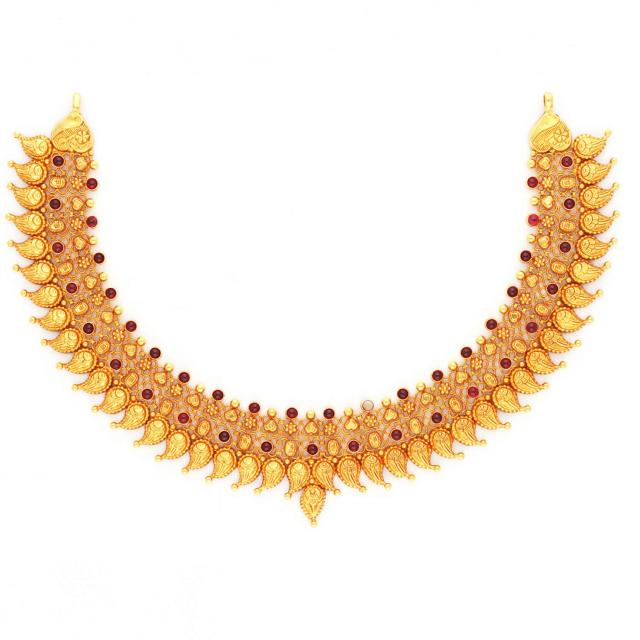missing gem: (363, 401, 373, 411)
